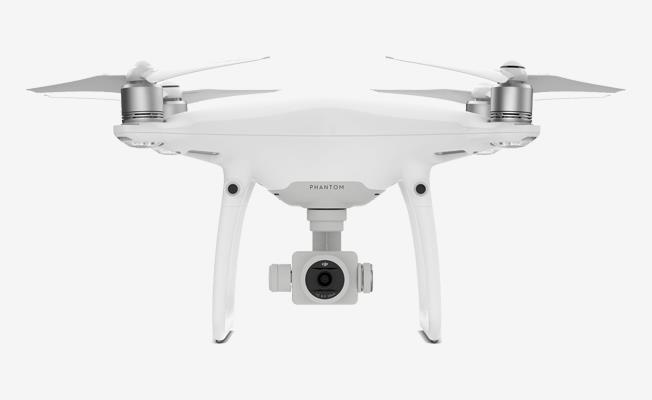drone: (42, 34, 648, 295)
